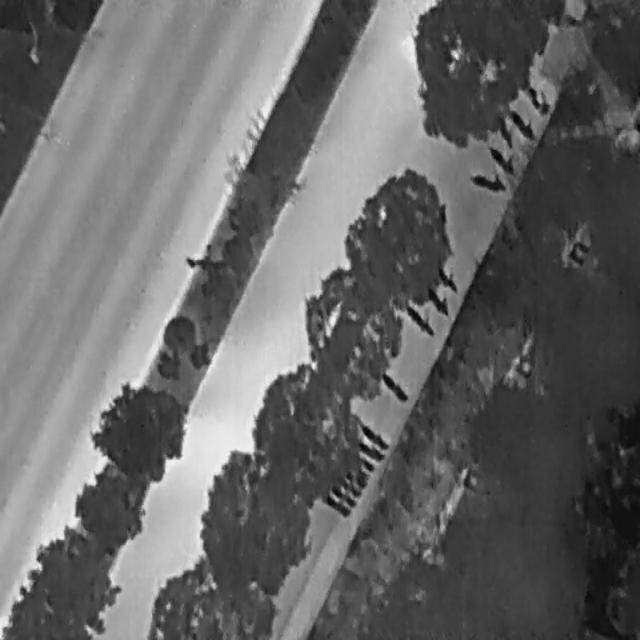Bicycle: (484, 135, 522, 180), (418, 278, 454, 322), (519, 76, 554, 120), (502, 101, 537, 144), (402, 300, 437, 341), (355, 415, 391, 454), (466, 163, 508, 195), (429, 256, 462, 296), (378, 366, 411, 405), (317, 489, 352, 520), (491, 110, 517, 151), (324, 480, 359, 509), (341, 456, 371, 489), (353, 434, 384, 465), (330, 472, 359, 498), (353, 450, 377, 474)
